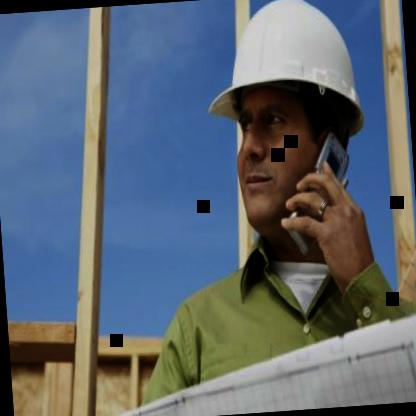helmet: (191, 0, 384, 272)
